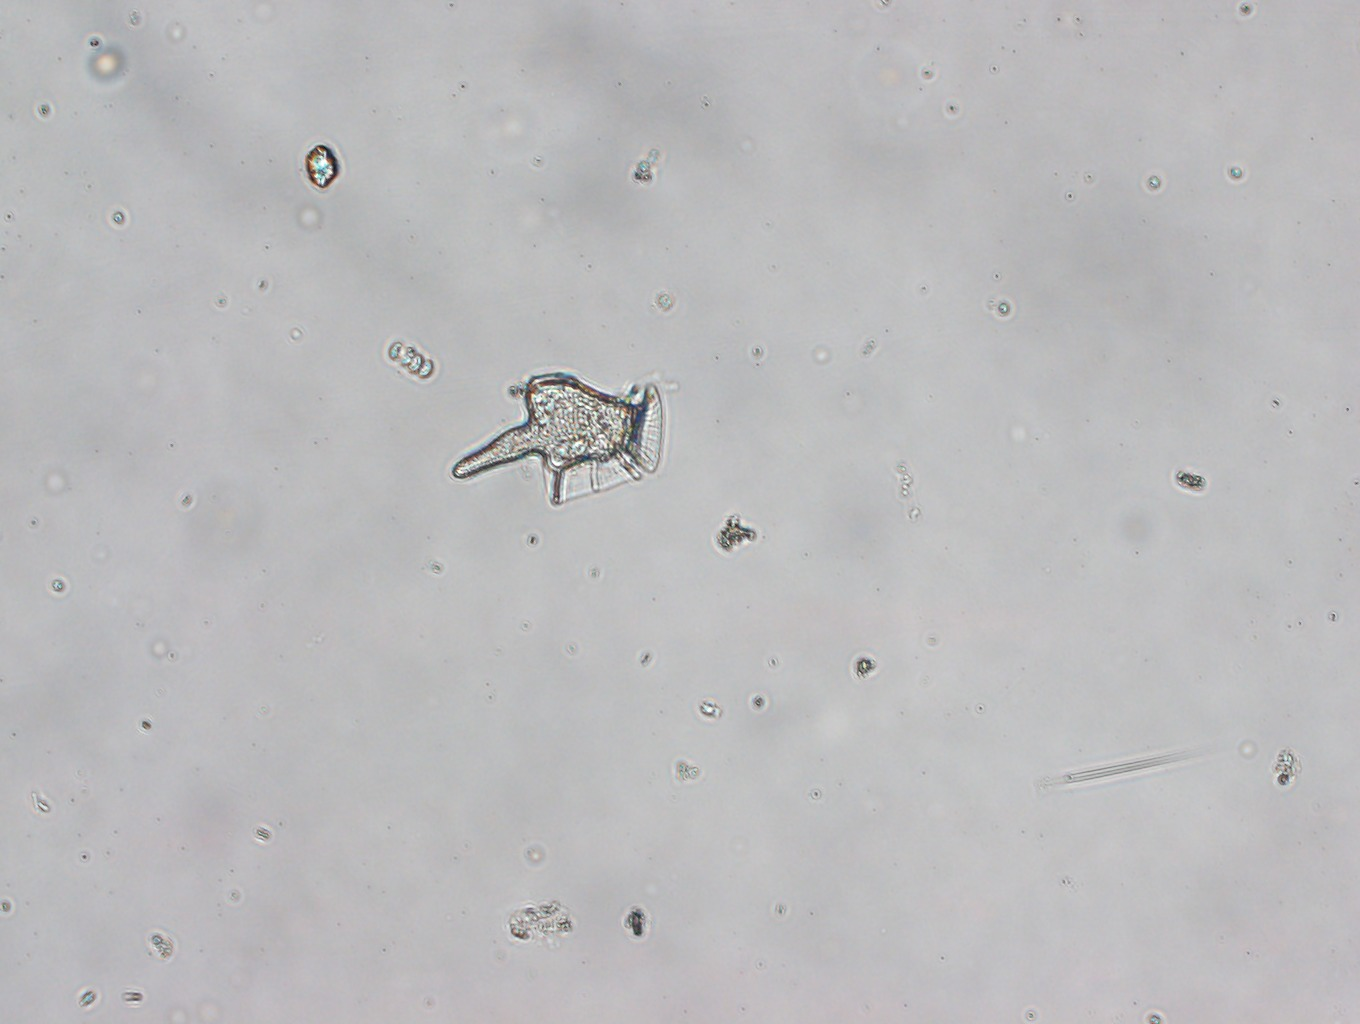dinophysis caudata: (445, 358, 677, 513)
